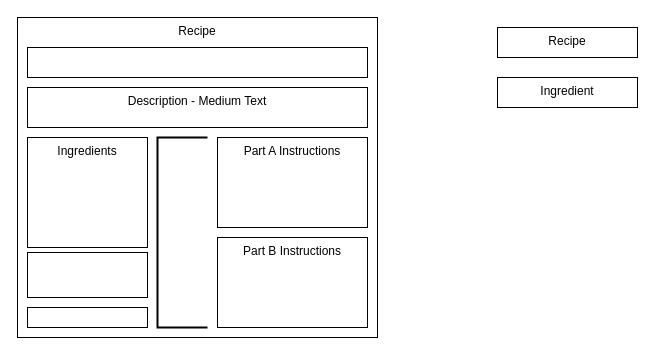
Some shapes in this 655 by 355 pixel diagram are drawn without their labels. The box of each missing label's shape, as (x1, y1, x2, y2) in pixels:
Header: (26, 46, 368, 78)
Optional Split: (156, 136, 208, 328)
Tips: (26, 252, 148, 298)
Variants: (26, 306, 148, 328)
